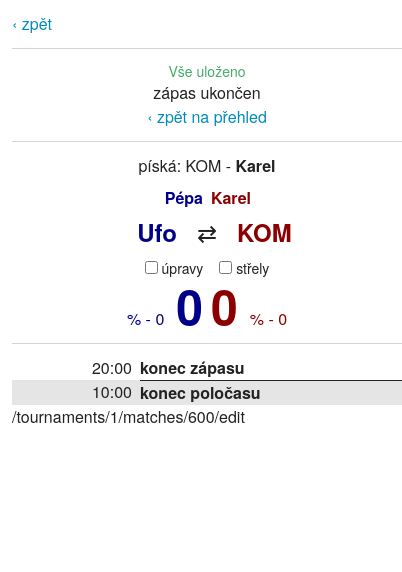
Test: ended match hides action buttons until edit mode
Expected: the text "zápas ukončen" is shown, [153,81,261,104]
Click the checkbox labelled "úpravy": (151, 268) [145,261,158,274]
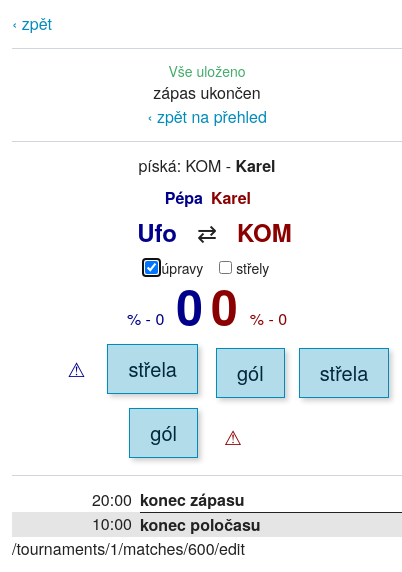
Now the button with aria-label "Gól Ufo" is shown, box [129,408,198,458]
Now the button named "Karta KOM" is shown, box [211,415,255,459]
